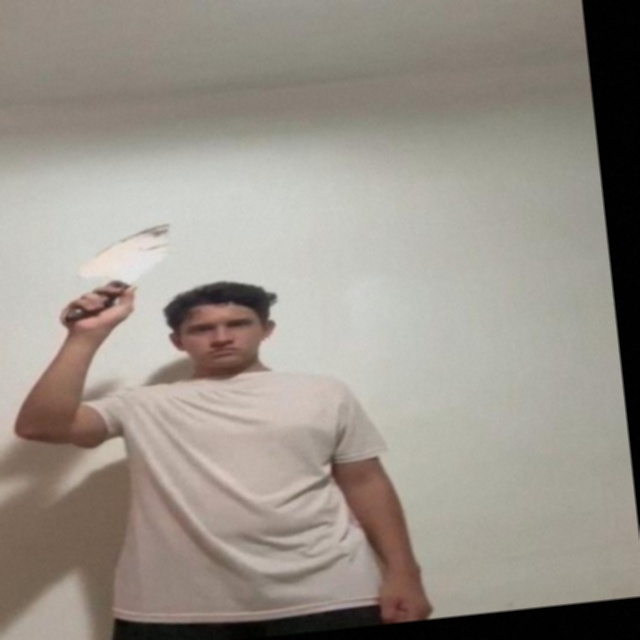Sharp-Object: (75, 222, 179, 276)
